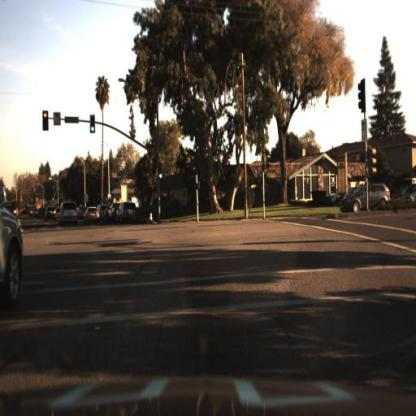car: (2, 162, 29, 344), (1, 190, 24, 321), (334, 174, 397, 221), (339, 180, 394, 215), (56, 201, 79, 232), (118, 202, 138, 228), (83, 206, 104, 229), (330, 184, 347, 208), (108, 202, 121, 229), (85, 202, 100, 225), (99, 200, 109, 230)
trafficLight-Green: (89, 114, 97, 135), (157, 163, 165, 180), (158, 171, 166, 187), (90, 124, 95, 138)
trafficLight-RedLeft: (43, 108, 53, 134), (42, 107, 50, 128)
